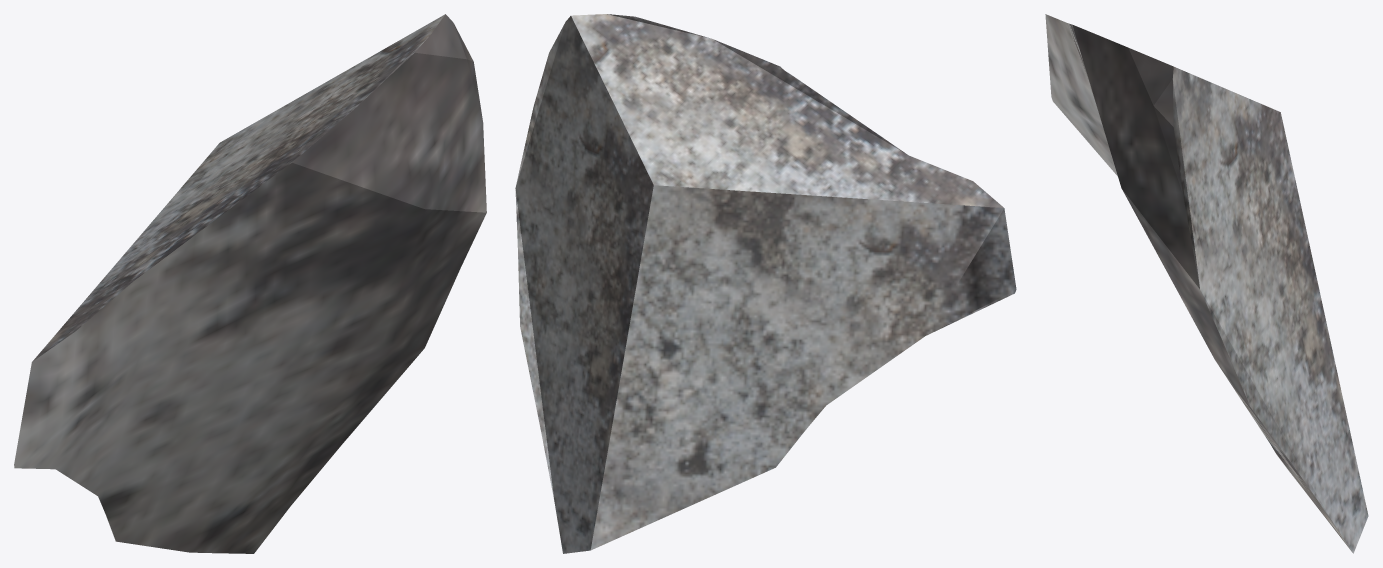
The model's file is Asteroid_Large_001_02_007_03_015.fbx.
The picture shows the model from 3 angles, left to right: view 1: azimuth 30°, elevation 25°; view 2: azimuth 150°, elevation 25°; view 3: azimuth 270°, elevation 25°; orthographic projection. The views are drawn at different scales.
Visible parts, largest first — view 1: Asteroid_Large_001_02_007_03_015; view 2: Asteroid_Large_001_02_007_03_015; view 3: Asteroid_Large_001_02_007_03_015.
Boxes of the visible parts, x1,y1,x2,y2 form: Asteroid_Large_001_02_007_03_015: (14, 14, 486, 553); Asteroid_Large_001_02_007_03_015: (515, 14, 1016, 553); Asteroid_Large_001_02_007_03_015: (1045, 14, 1368, 553).
Size of the model in its own units: 9.4 by 9.55 by 5.31.
